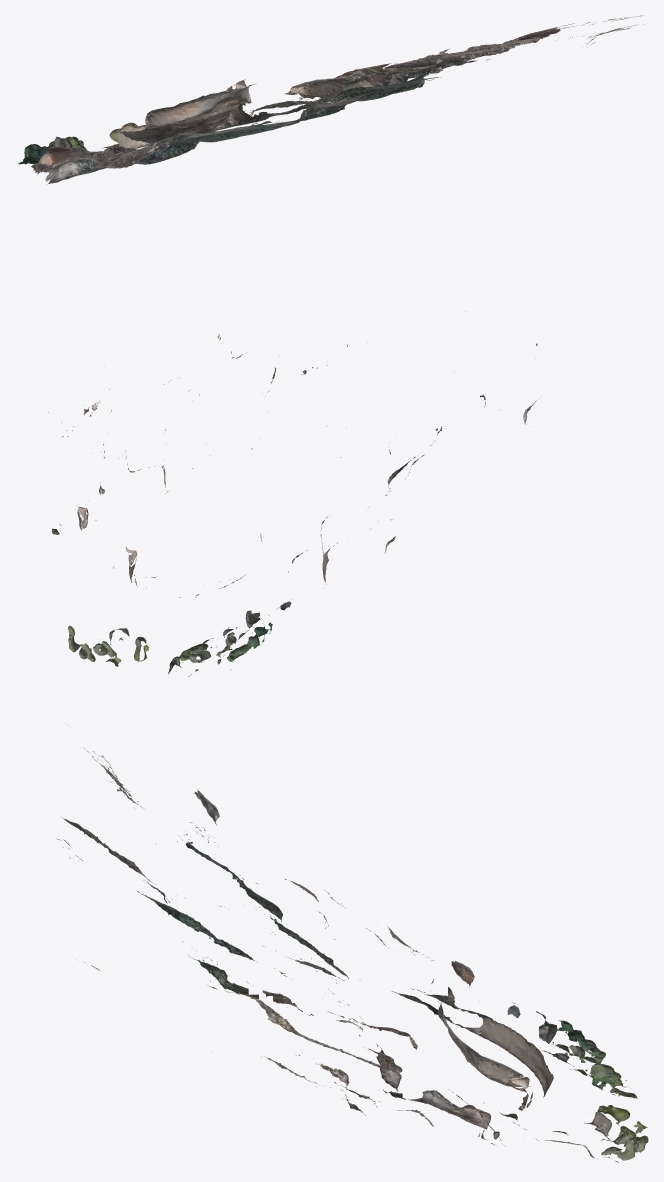
File: colosseum_poisson9.glb
The picture shows the model from 3 angles, top to bottom: view 1: azimuth 30°, elevation 25°; view 2: azimuth 150°, elevation 25°; view 3: azimuth 270°, elevation 25°; orthographic projection. The views are drawn at different scales.
Visible parts, largest first — view 1: world; view 2: world; view 3: world.
Part boxes in pixels (<box>): world: <box>18,15,643,184</box>; world: <box>48,311,537,676</box>; world: <box>56,723,648,1162</box>.
Size of the model in its own units: 2.13 by 0.9844 by 1.95.
